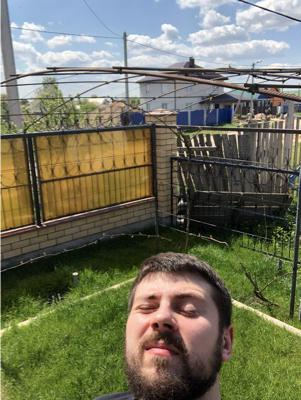without_mask: (125, 284, 212, 400)
